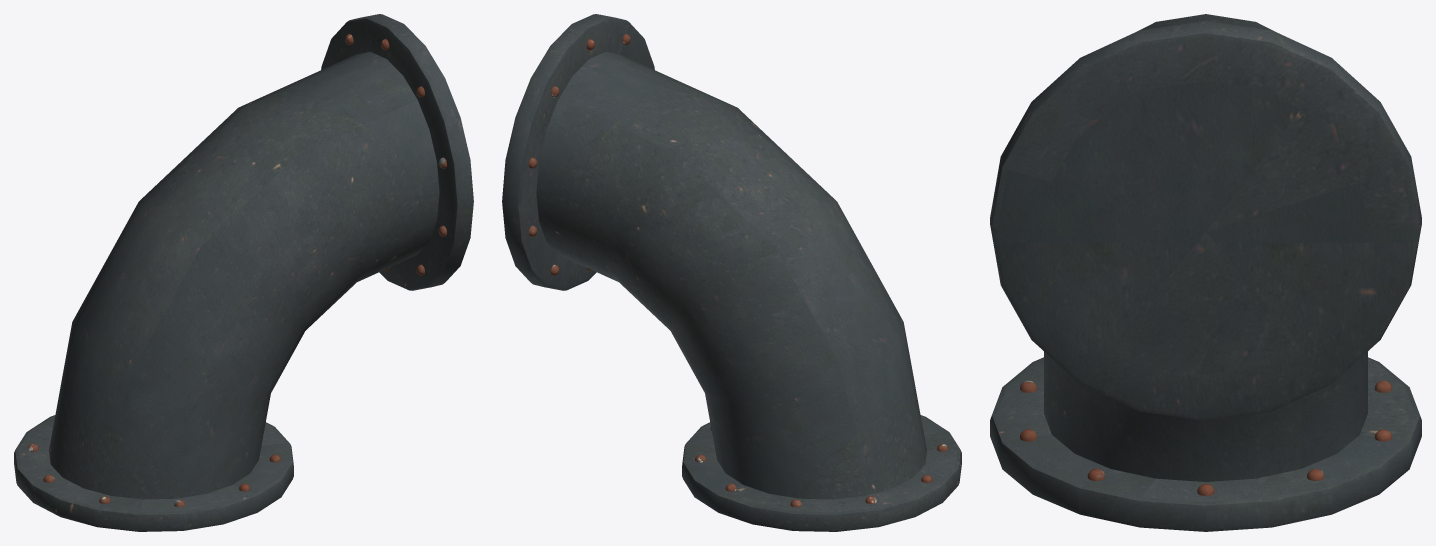
File: Powerplant_Model_Environment_90PipeTextured.fbx
3 views of the same model, side by side, from view 1: azimuth 30°, elevation 25°; view 2: azimuth 150°, elevation 25°; view 3: azimuth 270°, elevation 25° (orthographic). The views are drawn at different scales.
Parts seen in each view (by area): view 1: Pipe(90 degree); view 2: Pipe(90 degree); view 3: Pipe(90 degree).
Part boxes in pixels (left/top/right/bottom): Pipe(90 degree): left=14, top=14, right=473, bottom=531; Pipe(90 degree): left=502, top=14, right=961, bottom=531; Pipe(90 degree): left=990, top=14, right=1421, bottom=531.
Size of the model in its own units: 73.44 by 73.44 by 47.97.
Materials: 2 (2 with a texture image).
